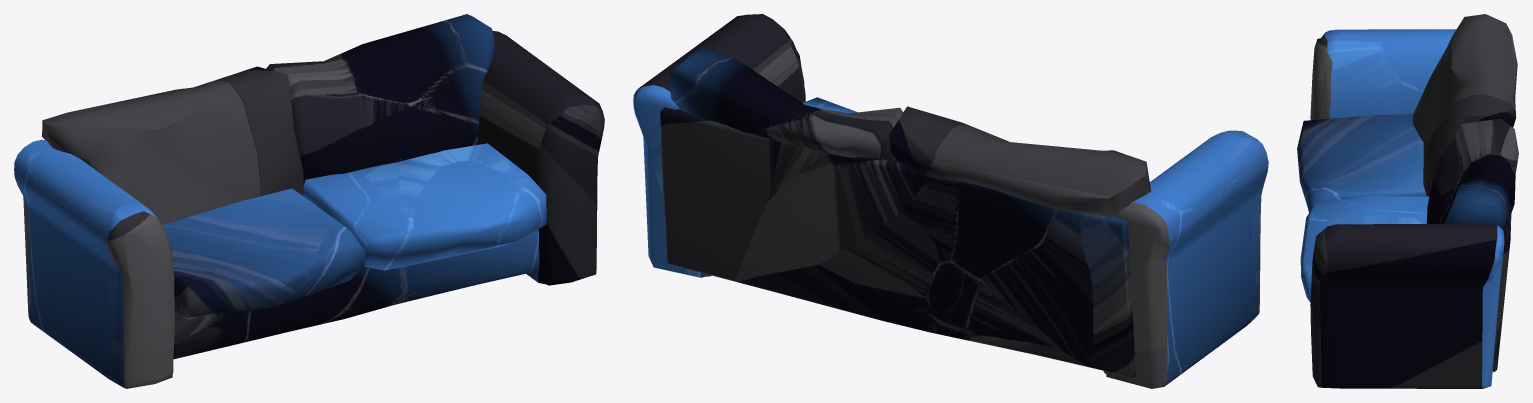
3 renders of one model, left to right at view 1: azimuth 30°, elevation 25°; view 2: azimuth 150°, elevation 25°; view 3: azimuth 270°, elevation 25°, orthographic. The views are drawn at different scales.
Visible parts, largest first — view 1: Arm_Rests_low, Back_Cushions_L_low, Back_Cushions_R_low, Butt_Cushions_R_low, Butt_Cushions_L_low, Seat_low; view 2: Back_low, Arm_Rests_low, Back_Cushions_L_low, Back_Cushions_R_low; view 3: Arm_Rests_low, Butt_Cushions_L_low, Back_Cushions_L_low, Back_Cushions_R_low, Butt_Cushions_R_low, Back_low.
Boxes of the visible parts, x1,y1,x2,y2 form: Arm_Rests_low: (14, 30, 604, 388); Back_Cushions_L_low: (42, 66, 303, 224); Back_Cushions_R_low: (266, 14, 496, 184); Butt_Cushions_R_low: (303, 143, 546, 270); Butt_Cushions_L_low: (162, 188, 364, 319); Seat_low: (173, 229, 539, 359); Back_low: (660, 107, 1135, 377); Arm_Rests_low: (633, 14, 1268, 388); Back_Cushions_L_low: (889, 106, 1150, 217); Back_Cushions_R_low: (669, 46, 903, 160); Arm_Rests_low: (1310, 29, 1504, 388); Butt_Cushions_L_low: (1297, 114, 1426, 212); Back_Cushions_L_low: (1412, 14, 1517, 196); Back_Cushions_R_low: (1426, 118, 1518, 229); Butt_Cushions_R_low: (1300, 196, 1429, 302); Back_low: (1492, 214, 1511, 371).
Bounding box in the file's own units: 236 × 90.48 × 102.
